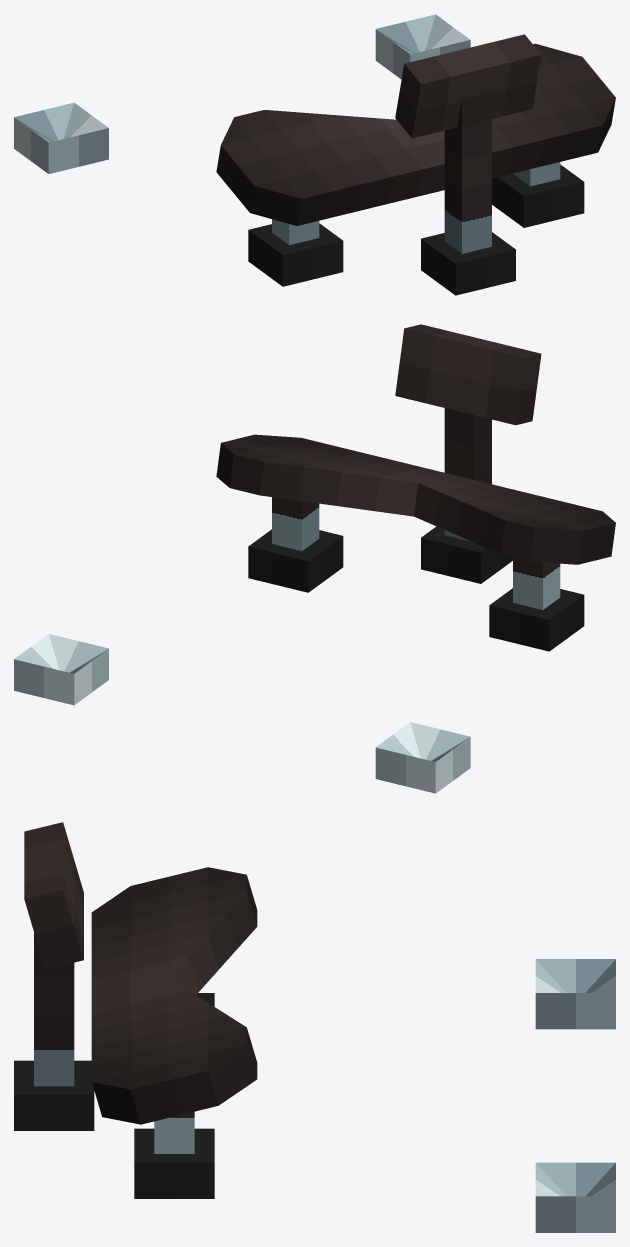
File: station_transcription.obj
3 renders of one model, top to bottom at view 1: azimuth 30°, elevation 25°; view 2: azimuth 150°, elevation 25°; view 3: azimuth 270°, elevation 25°, orthographic. The views are drawn at different scales.
Visible parts, largest first — view 1: TRANSCRIPTION_MAIN_Cube.012; view 2: TRANSCRIPTION_MAIN_Cube.012; view 3: TRANSCRIPTION_MAIN_Cube.012.
Part boxes in pixels (box(x1,y1,x2,y2)): TRANSCRIPTION_MAIN_Cube.012: box(14, 14, 615, 295); TRANSCRIPTION_MAIN_Cube.012: box(14, 324, 615, 793); TRANSCRIPTION_MAIN_Cube.012: box(14, 822, 615, 1232).
Bounding box in the file's own units: 0.875 × 0.4435 × 0.9375.
